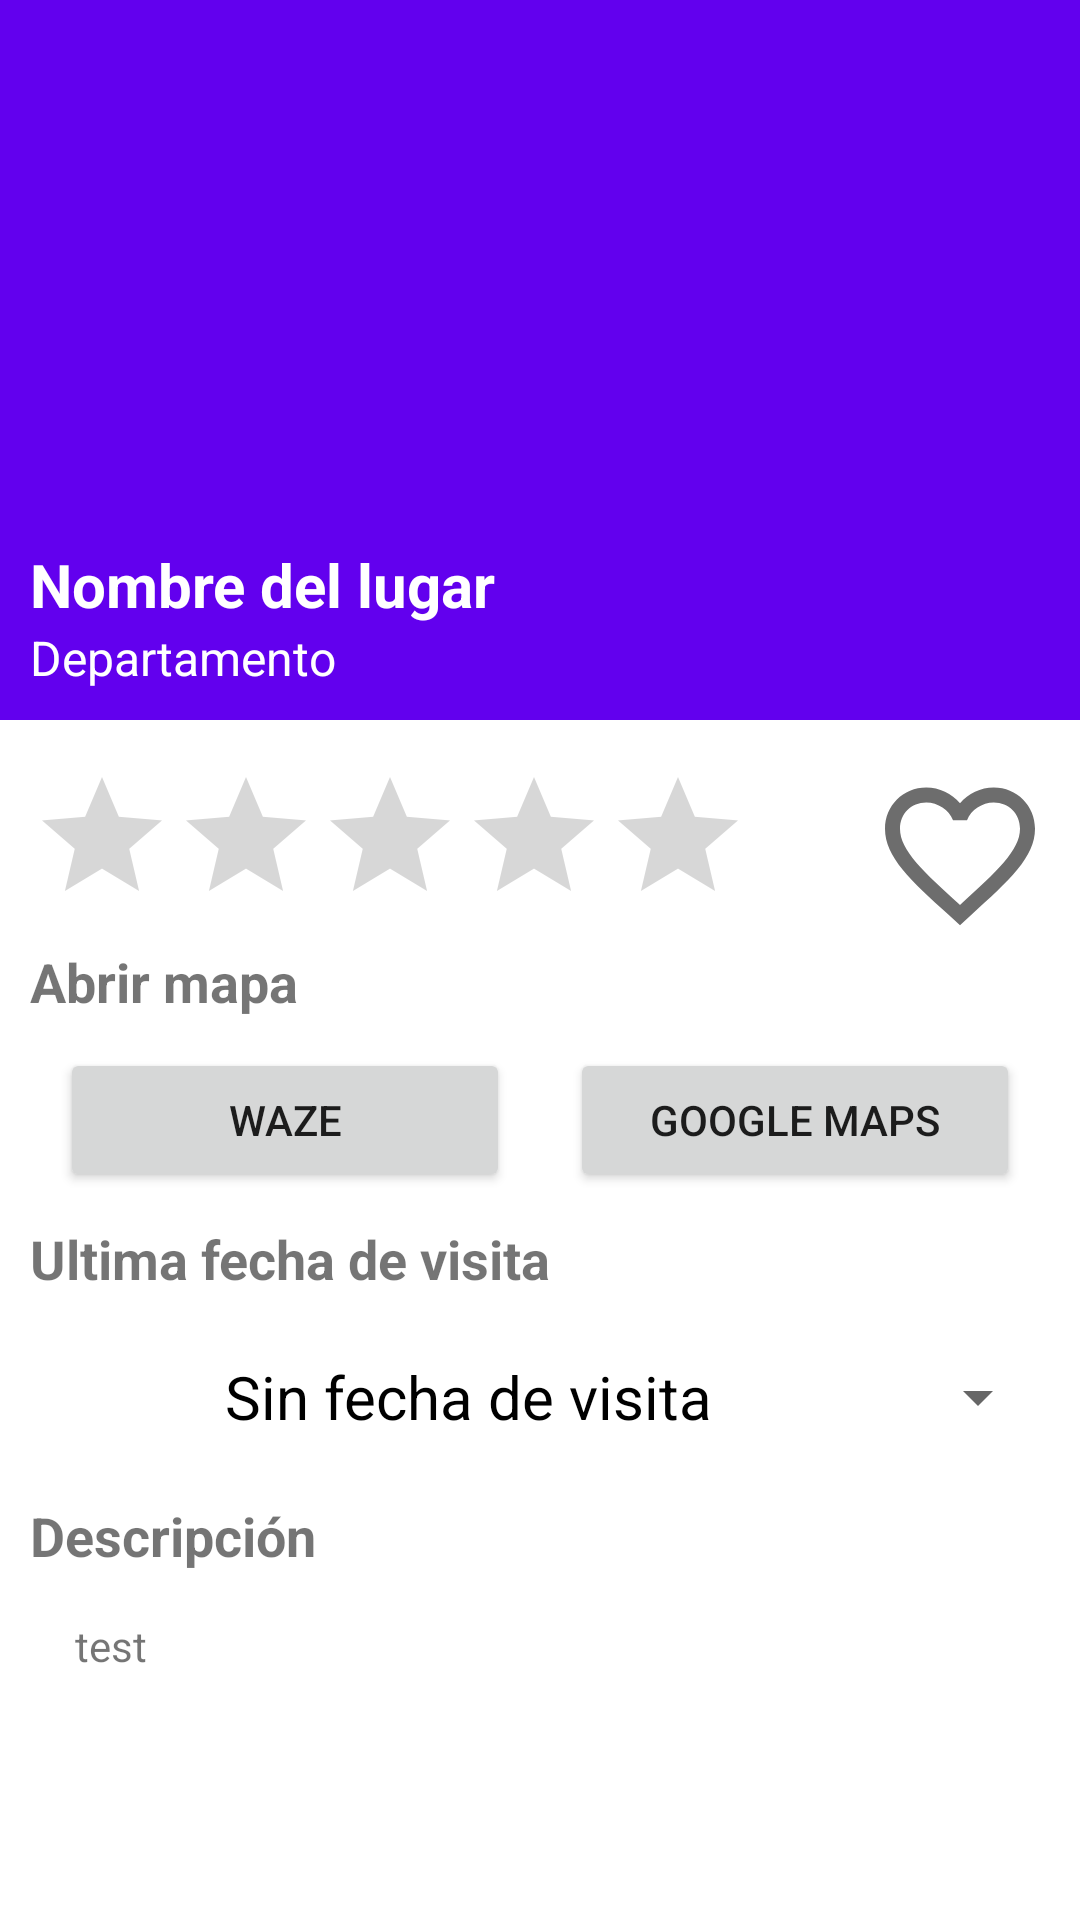

Icons on this 1080px x 1920px Android screen, each with its box as box(x1, y1, x2, y2):
favorite border: box(885, 787, 1035, 925)
